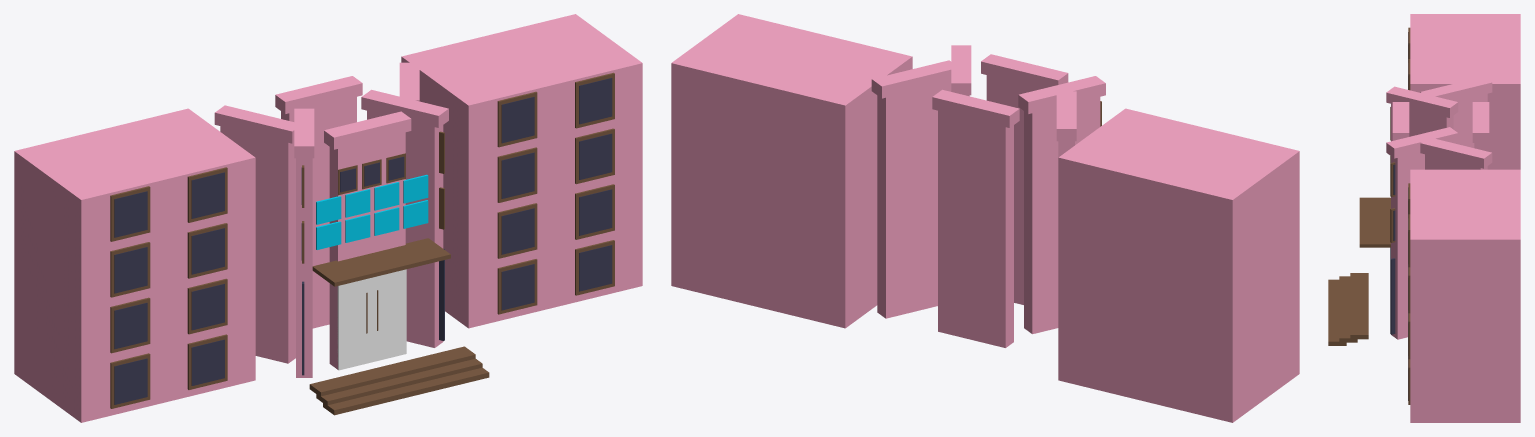
Rendered from computer_center.glb.
The picture shows the model from 3 angles, left to right: view 1: azimuth 30°, elevation 25°; view 2: azimuth 150°, elevation 25°; view 3: azimuth 270°, elevation 25°; orthographic projection. The views are drawn at different scales.
Parts seen in each view (by area): view 1: Cube.012, Cube.029, Cube.003, Cube.046, Cube.002, Cube, Cube.005, Cube.001, Cube.073, Cube.074, Cube.076, Cube.006 (+46 smaller); view 2: Cube.012, Cube.029, Cube.005, Cube.004, Cube.001, Cube, Cube.011, Cube.010, Cube.006, Cube.007, Cube.009, Cube.008; view 3: Cube.029, Cube.012, Cube.002, Cube.073, Cube.010, Cube.074, Cube.007, Cube.009, Cube.008, Cube.001, Cube.003, Cube.075 (+5 smaller).
Part boxes in pixels (box(x1,y1,x2,y2)): Cube.012: box(14, 108, 255, 422); Cube.029: box(401, 14, 642, 328); Cube.003: box(220, 126, 295, 363); Cube.046: box(337, 269, 406, 370); Cube.002: box(367, 110, 443, 347); Cube: box(329, 132, 405, 369); Cube.005: box(281, 97, 356, 328); Cube.001: box(296, 158, 312, 377); Cube.073: box(312, 238, 450, 286); Cube.074: box(309, 346, 475, 396); Cube.076: box(323, 367, 489, 415); Cube.006: box(324, 111, 411, 149); Cube.012: box(1058, 108, 1299, 422); Cube.029: box(671, 14, 912, 328); Cube.005: box(938, 110, 1013, 347); Cube.004: box(877, 82, 951, 318); Cube.001: box(1024, 97, 1100, 334); Cube: box(986, 75, 1042, 304); Cube.011: box(932, 89, 1019, 127); Cube.010: box(871, 60, 956, 98); Cube.006: box(981, 54, 1068, 88); Cube.007: box(1018, 76, 1105, 113); Cube.009: box(1056, 91, 1076, 141); Cube.008: box(951, 45, 971, 95); Cube.029: box(1410, 169, 1520, 422); Cube.012: box(1410, 14, 1520, 169); Cube.002: box(1391, 152, 1424, 339); Cube.073: box(1359, 197, 1390, 247); Cube.010: box(1420, 137, 1492, 168); Cube.074: box(1350, 273, 1368, 339); Cube.007: box(1386, 86, 1458, 117); Cube.009: box(1420, 76, 1492, 101); Cube.008: box(1386, 127, 1458, 158); Cube.001: box(1391, 104, 1453, 141); Cube.003: box(1453, 93, 1487, 147); Cube.075: box(1339, 276, 1357, 342).
Bounding box in the file's own units: 58 × 23.65 × 20.9.
